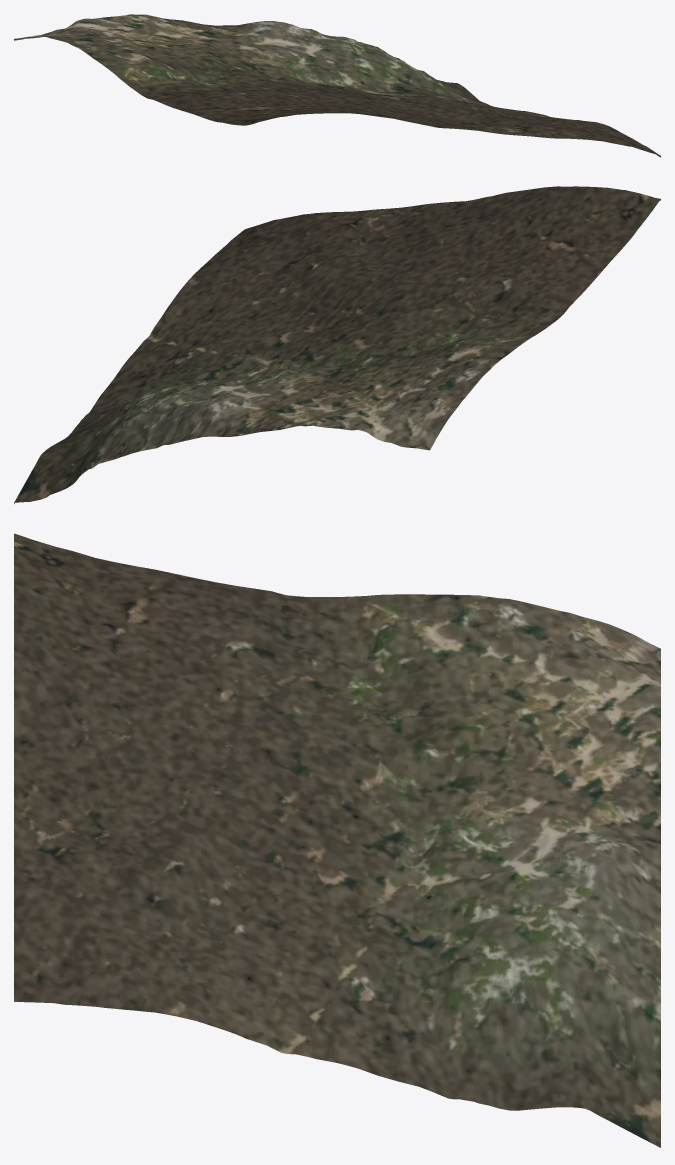
3 renders of one model, top to bottom at view 1: azimuth 30°, elevation 25°; view 2: azimuth 150°, elevation 25°; view 3: azimuth 270°, elevation 25°, orthographic. The views are drawn at different scales.
Size of the model in its own units: 250 by 137 by 241.
1 material, 1 textured.
